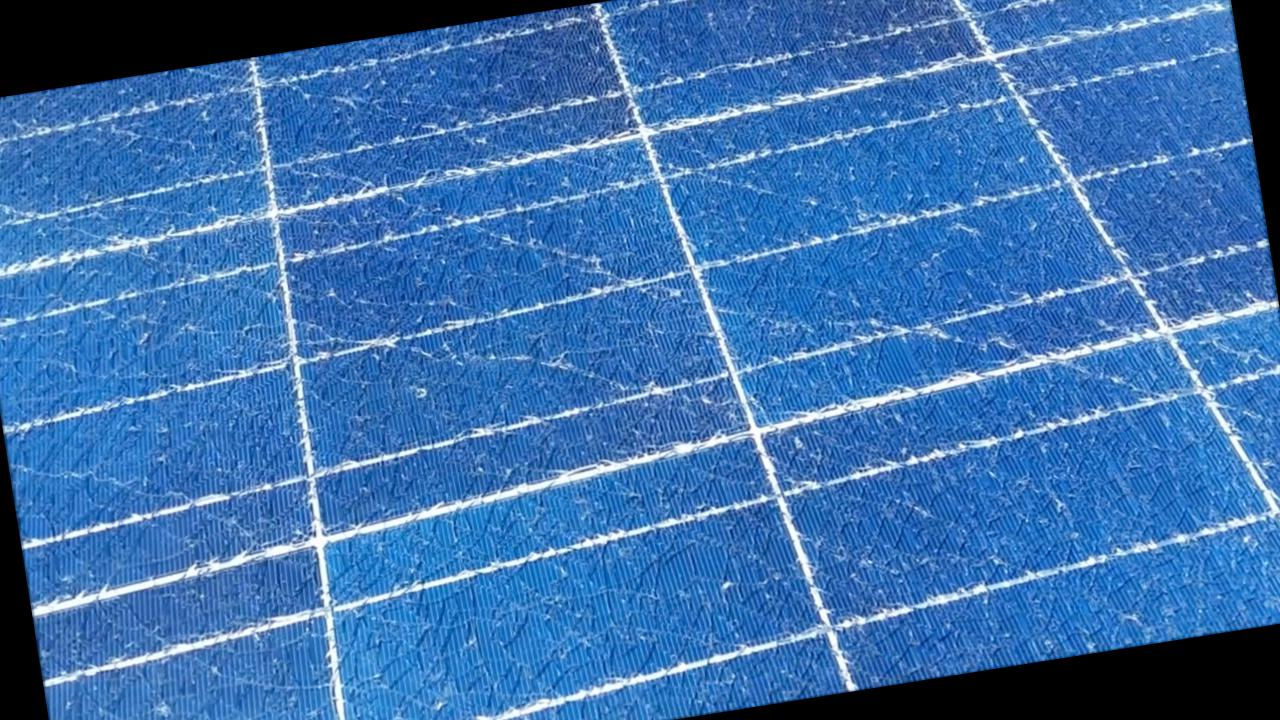Crack: (288, 11, 1170, 568), (0, 145, 283, 343)
